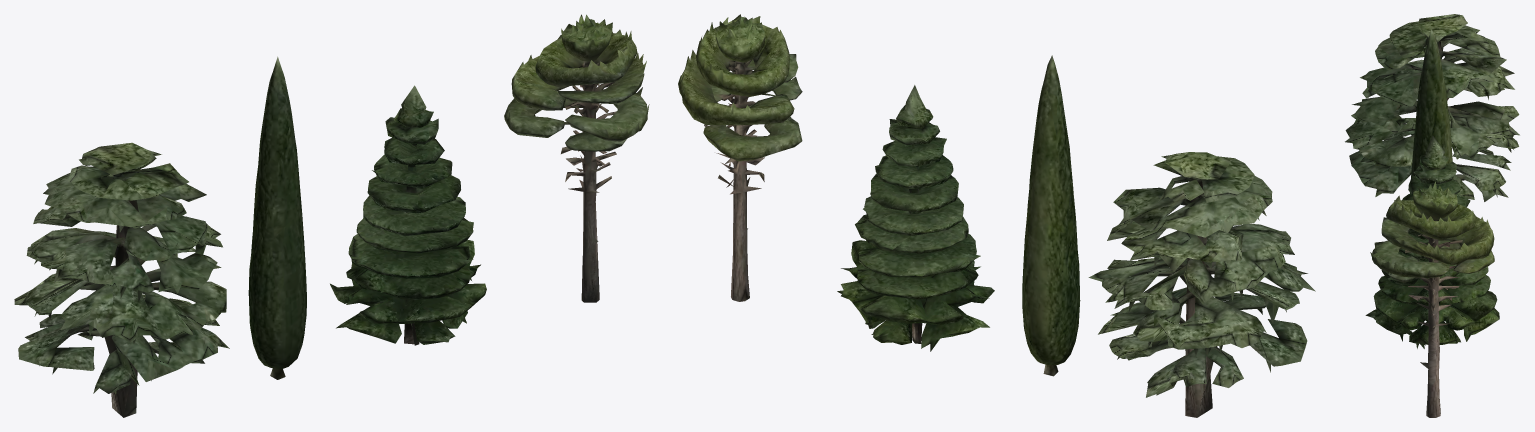
The model's file is trees_conifer.glb.
3 renders of one model, left to right at view 1: azimuth 30°, elevation 25°; view 2: azimuth 150°, elevation 25°; view 3: azimuth 270°, elevation 25°, orthographic. The views are drawn at different scales.
Parts seen in each view (by area): view 1: cedar, spruce, pine, cypress; view 2: cedar, spruce, pine, cypress; view 3: cedar, pine, spruce, cypress.
Part boxes in pixels (box(x1,y1,x2,y2)): cedar: box(14, 142, 229, 417); spruce: box(330, 85, 486, 345); pine: box(504, 14, 649, 302); cypress: box(248, 56, 306, 379); cedar: box(1088, 152, 1315, 417); spruce: box(837, 85, 994, 351); pine: box(678, 14, 802, 301); cypress: box(1022, 55, 1080, 376); cedar: box(1345, 14, 1519, 201); pine: box(1370, 181, 1494, 417); spruce: box(1365, 135, 1499, 348); cypress: box(1410, 29, 1453, 193).
Size of the model in its own units: 1.09 by 0.5379 by 0.3283.
1 material, 1 textured.
